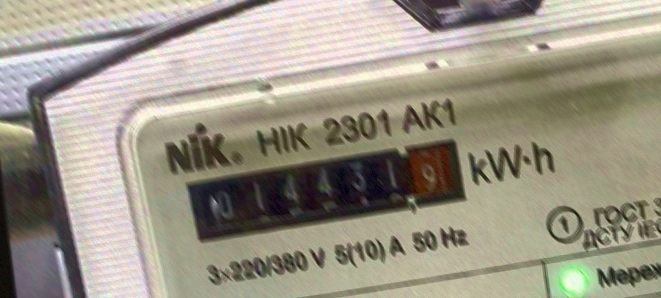0: (213, 186, 237, 221)
1: (248, 177, 270, 212), (384, 156, 401, 189)
3: (347, 160, 370, 194)
4: (279, 170, 304, 205), (313, 163, 335, 199)
9: (419, 159, 439, 192)
screen: (177, 130, 481, 251)
